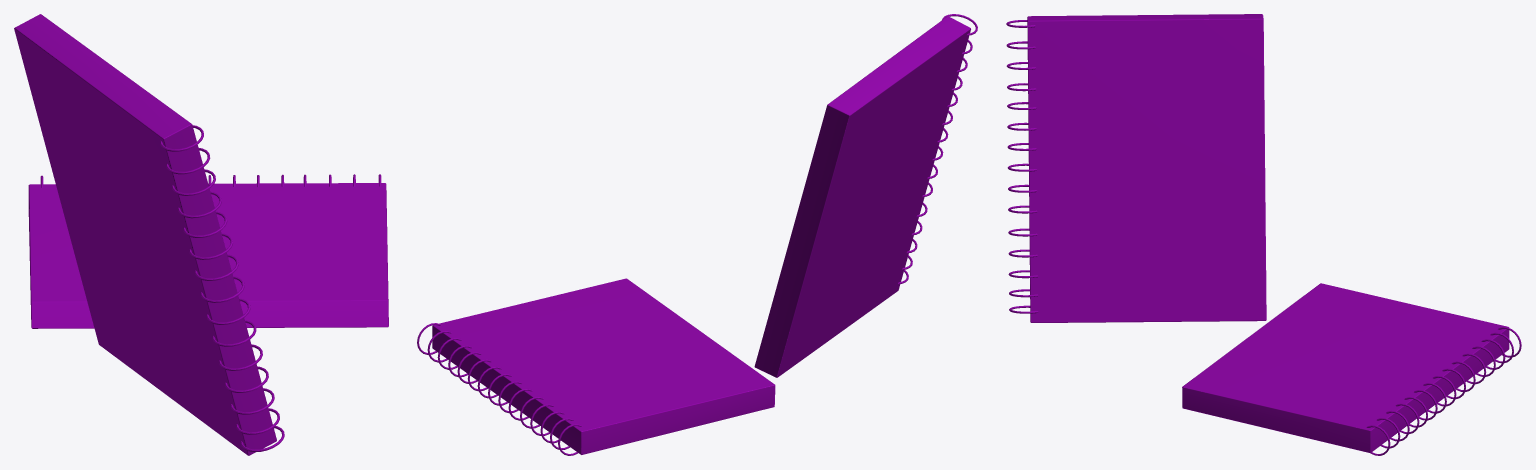
File: Music Books.fbx
3 views of the same model, side by side, from view 1: azimuth 30°, elevation 25°; view 2: azimuth 150°, elevation 25°; view 3: azimuth 270°, elevation 25° (orthographic). The views are drawn at different scales.
Parts seen in each view (by area): view 1: pCube1 (×2), pTorus16; view 2: pCube1 (×2), pTorus16 (×2); view 3: pCube1 (×2), pTorus16 (×2).
Boxes of the visible parts, bbox=[...] form: pCube1 (×2): bbox=[14, 14, 388, 455]; pTorus16: bbox=[160, 125, 284, 451]; pCube1 (×2): bbox=[432, 16, 970, 454]; pTorus16 (×2): bbox=[417, 14, 977, 455]; pCube1 (×2): bbox=[1027, 14, 1509, 453]; pTorus16 (×2): bbox=[1006, 20, 1521, 455].
Bounding box in the file's own units: 27.08 × 20.31 × 34.07.
